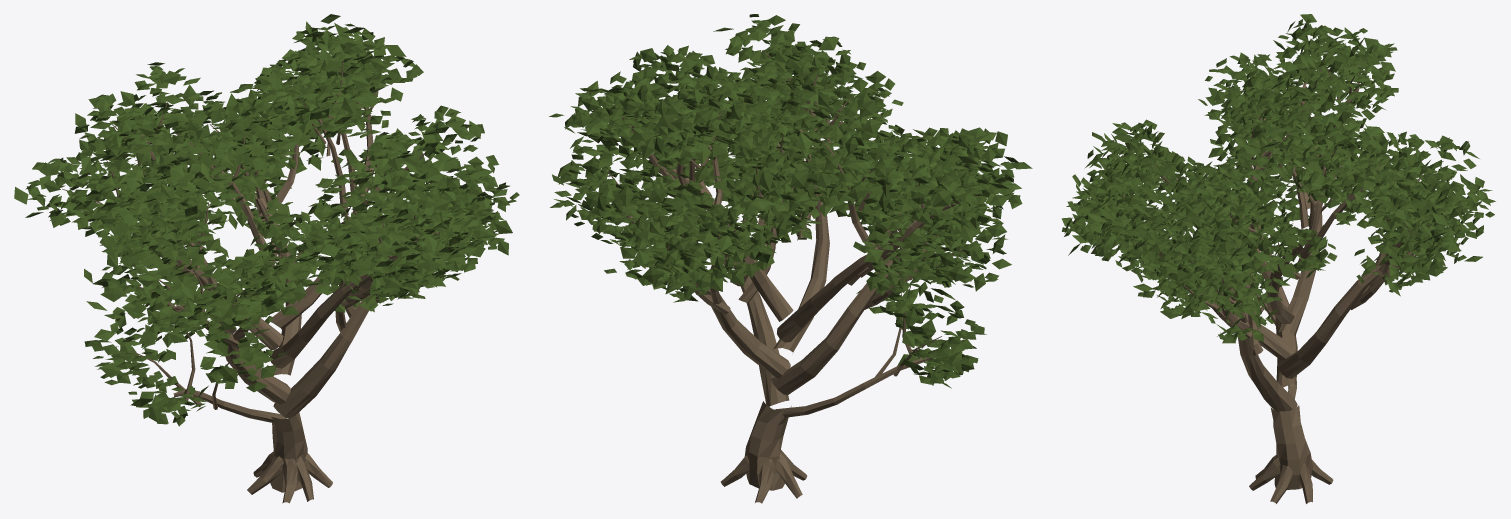
Rendered from low-field-maple.glb.
3 views of the same model, side by side, from view 1: azimuth 30°, elevation 25°; view 2: azimuth 150°, elevation 25°; view 3: azimuth 270°, elevation 25° (orthographic). The views are drawn at different scales.
Parts seen in each view (by area): view 1: individual-folded-leaves, connected-curved-wood; view 2: individual-folded-leaves, connected-curved-wood; view 3: individual-folded-leaves, connected-curved-wood.
Boxes of the visible parts, box(x1,y1,x2,y2) form: individual-folded-leaves: box(14, 14, 519, 426); connected-curved-wood: box(62, 61, 471, 503); individual-folded-leaves: box(549, 14, 1032, 388); connected-curved-wood: box(597, 50, 982, 503); individual-folded-leaves: box(1061, 14, 1495, 343); connected-curved-wood: box(1116, 66, 1445, 503).
Size of the model in its own units: 9.41 by 8.88 by 8.48.
